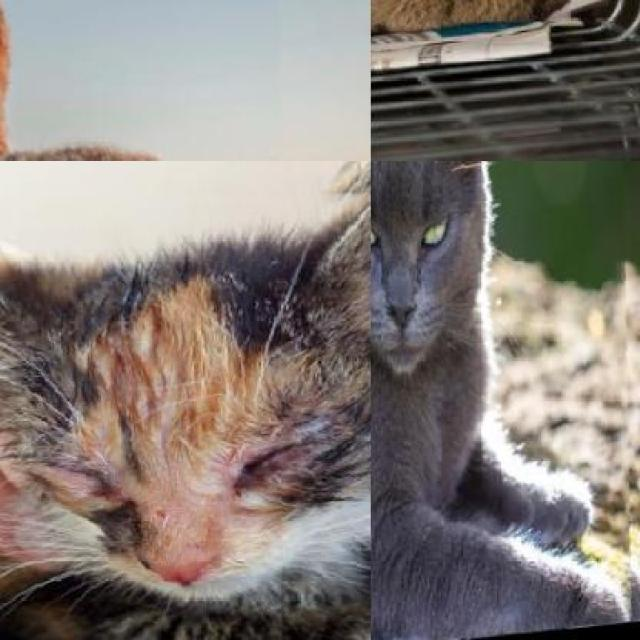cat: (0, 160, 371, 640), (371, 160, 640, 640), (0, 0, 325, 160), (371, 0, 591, 62)
